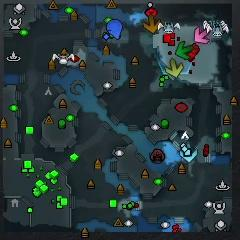p1: (106, 20, 124, 40)
x1: (195, 27, 210, 44)
x2: (165, 59, 184, 77)
x3: (180, 145, 199, 162)
x4: (176, 42, 193, 59)
x5: (143, 14, 160, 33)
